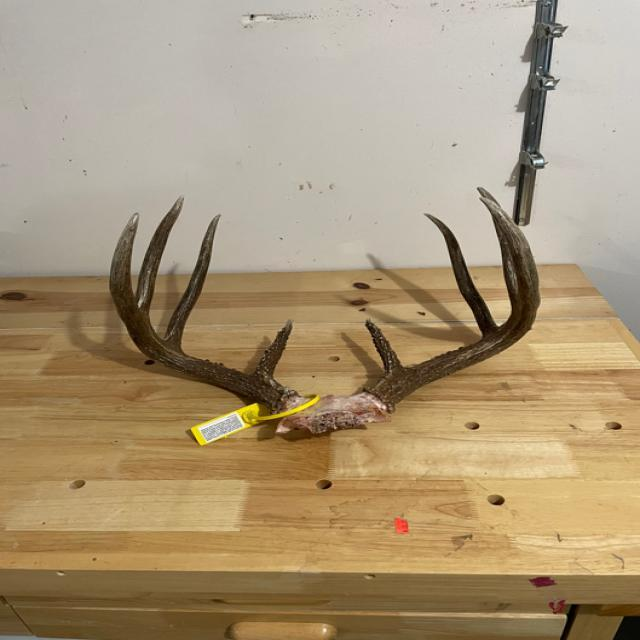L-F: (362, 196, 541, 413)
L-G1: (364, 317, 409, 379)
L-G2: (423, 213, 501, 339)
R-F: (108, 210, 299, 414)
R-G1: (251, 319, 293, 380)
R-G2: (164, 213, 222, 351)
R-G3: (135, 195, 185, 318)
